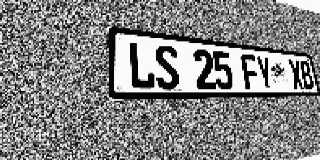2: (193, 48, 217, 90)
5: (212, 51, 234, 90)
B: (299, 60, 315, 90)
F: (240, 54, 261, 90)
L: (127, 41, 156, 89)
S: (154, 44, 180, 89)
X: (288, 59, 305, 90)
Y: (255, 55, 274, 90)
